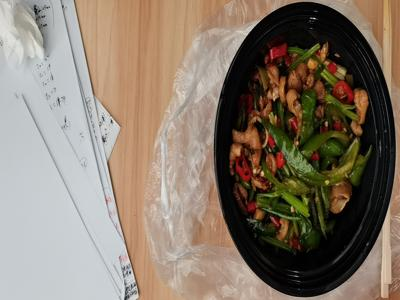cqj: (247, 50, 370, 250)
